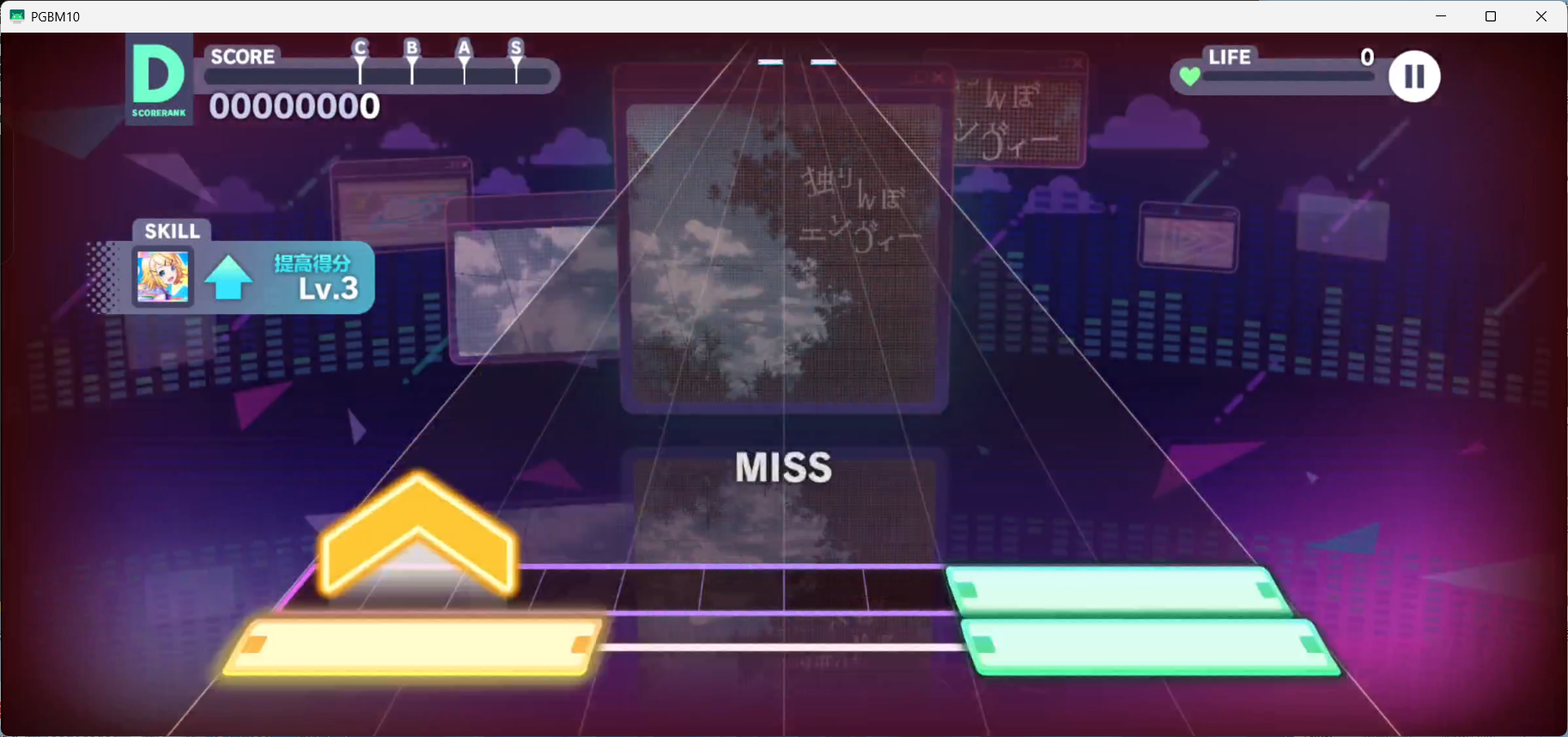flick: (318, 468, 519, 617)
tap: (222, 615, 602, 676), (959, 622, 1342, 676), (945, 565, 1296, 620), (810, 58, 837, 65), (757, 59, 783, 64)
